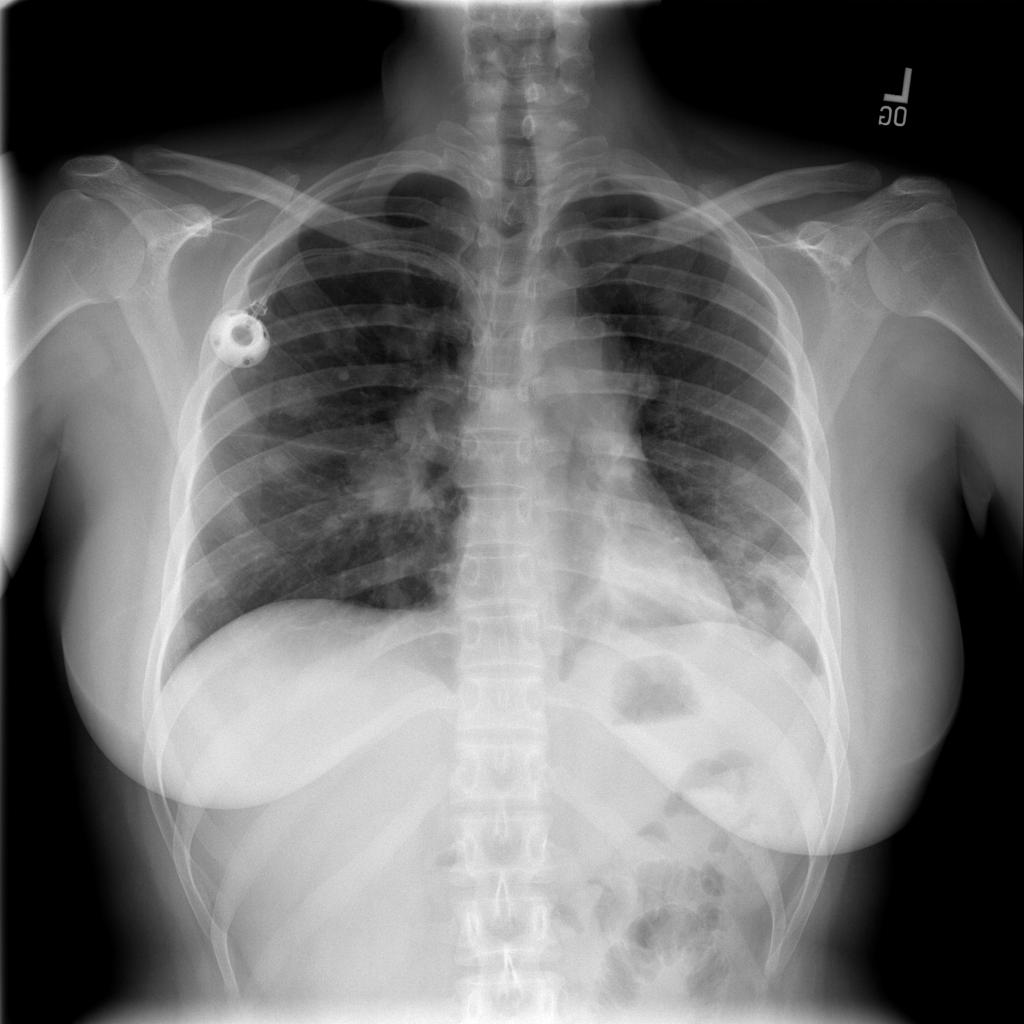nodule: (574, 505, 704, 623), (633, 270, 713, 341), (365, 297, 445, 368), (717, 585, 790, 652), (604, 349, 676, 415), (263, 368, 330, 433), (714, 441, 770, 491), (248, 441, 305, 487), (159, 609, 212, 657)
